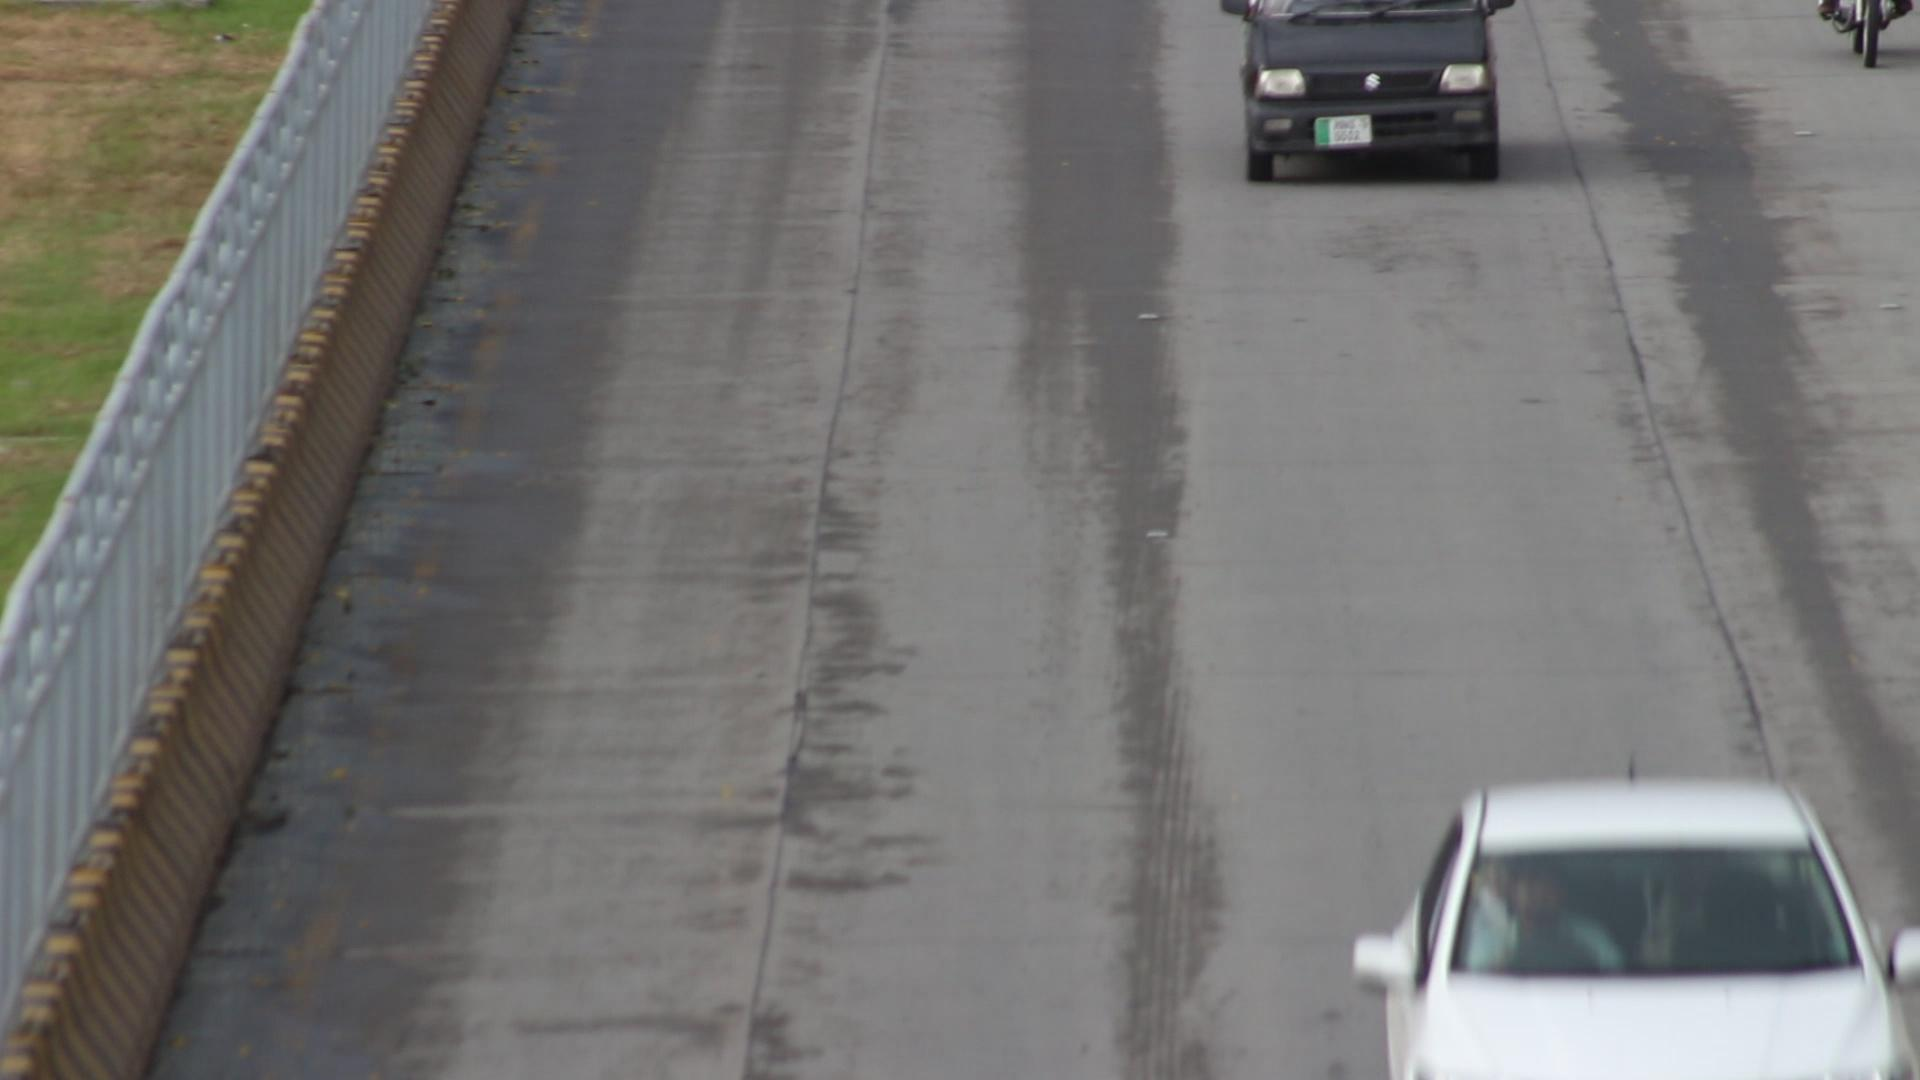windshield: (1444, 829, 1870, 986)
